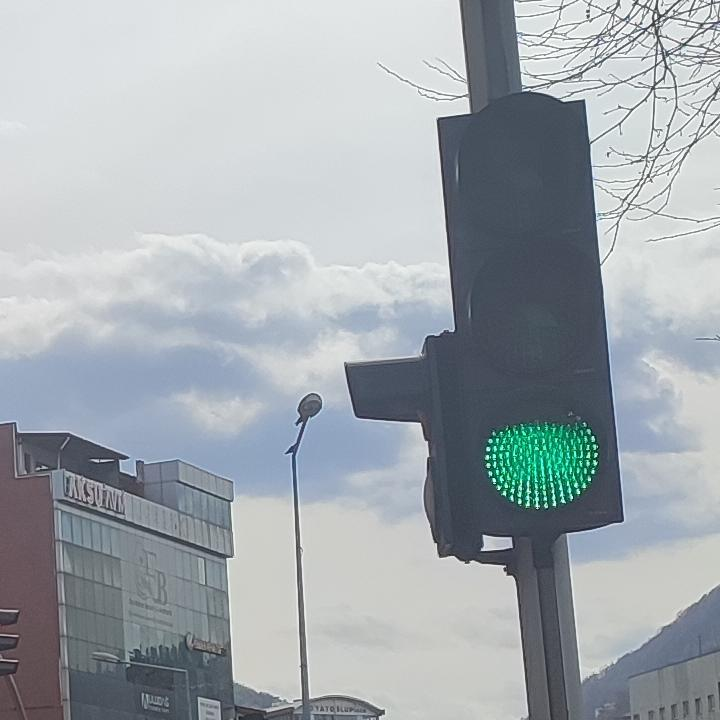green: (431, 91, 621, 541)
